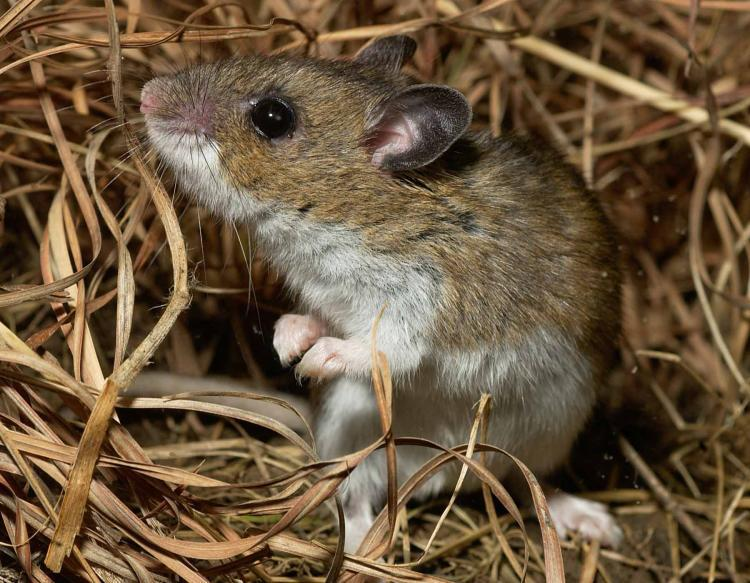rat: (140, 33, 624, 550)
